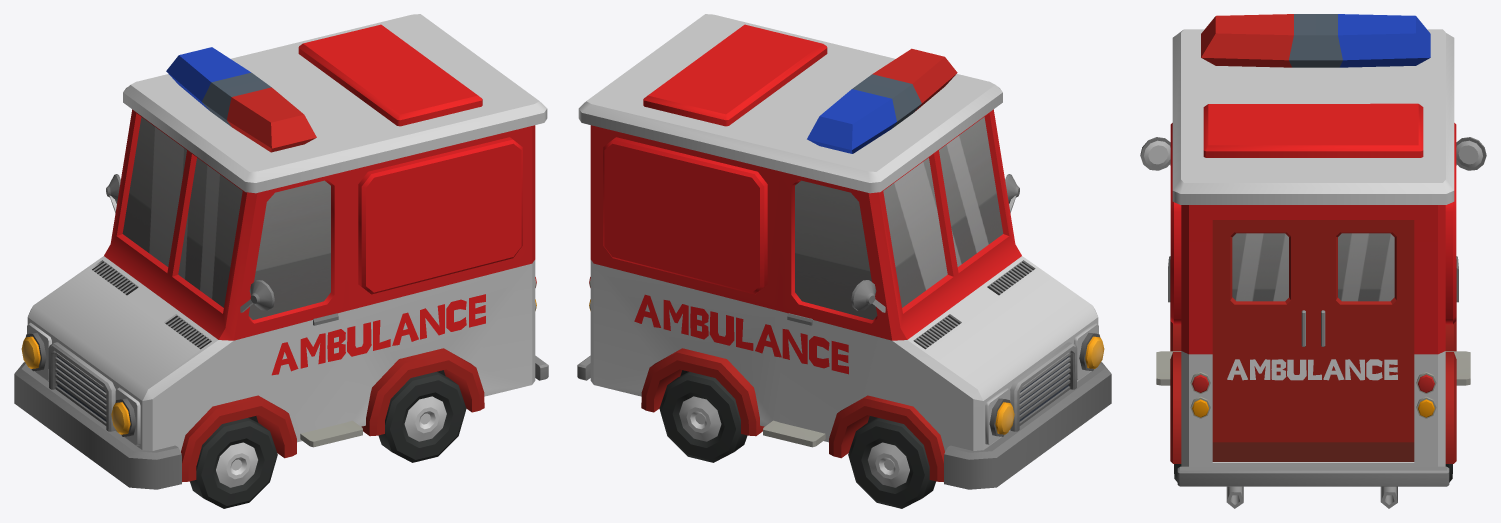
File: Ambulance_1_B.fbx
3 views of the same model, side by side, from view 1: azimuth 30°, elevation 25°; view 2: azimuth 150°, elevation 25°; view 3: azimuth 270°, elevation 25° (orthographic). The views are drawn at different scales.
Parts seen in each view (by area): view 1: Ambulance_1_B, RL, FL; view 2: Ambulance_1_B, RR, FR; view 3: Ambulance_1_B.
Boxes of the visible parts, x1,y1,x2,y2 form: Ambulance_1_B: [14, 14, 548, 489]; RL: [378, 371, 466, 462]; FL: [190, 418, 277, 508]; Ambulance_1_B: [577, 14, 1111, 489]; RR: [659, 371, 747, 462]; FR: [848, 418, 935, 508]; Ambulance_1_B: [1140, 14, 1486, 508].
Bounding box in the file's own units: 2.75 × 2.22 × 1.8.
